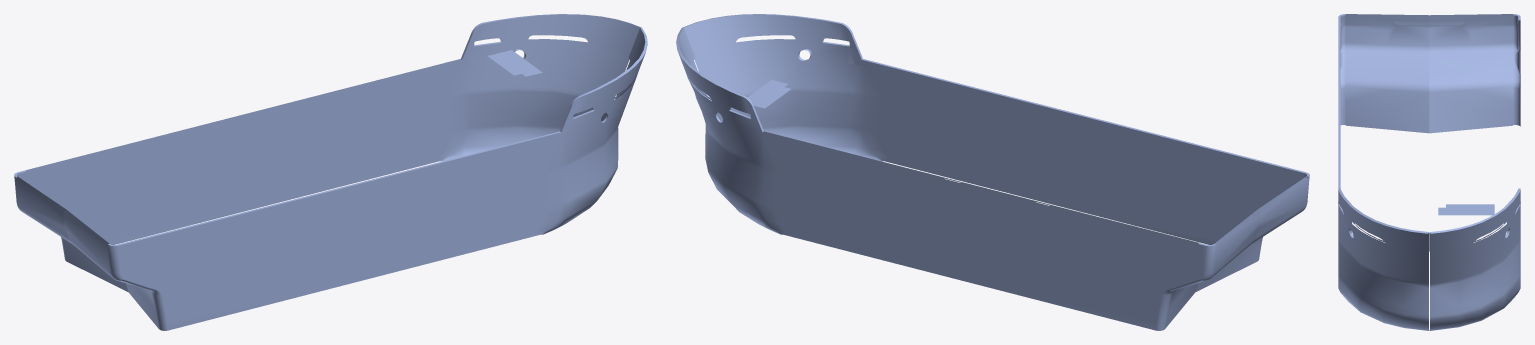
The model's file is hull.dae.
The picture shows the model from 3 angles, left to right: view 1: azimuth 30°, elevation 25°; view 2: azimuth 150°, elevation 25°; view 3: azimuth 270°, elevation 25°; orthographic projection. The views are drawn at different scales.
Parts seen in each view (by area): view 1: ship-1_001; view 2: ship-1_001; view 3: ship-1_001.
Boxes of the visible parts, x1=… form: ship-1_001: x1=14, y1=14, x2=647, y2=330; ship-1_001: x1=676, y1=14, x2=1309, y2=330; ship-1_001: x1=1338, y1=14, x2=1520, y2=330.
Bounding box in the file's own units: 14379 × 4310 × 3321.
